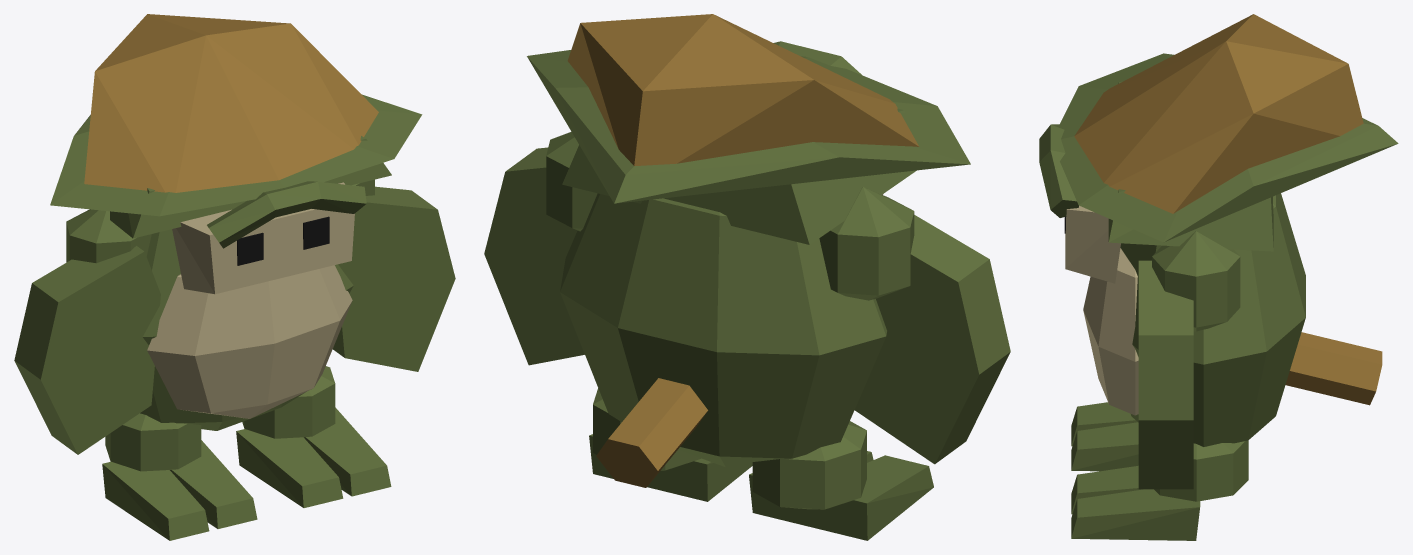
The model's file is veilbough.glb.
3 views of the same model, side by side, from view 1: azimuth 30°, elevation 25°; view 2: azimuth 150°, elevation 25°; view 3: azimuth 270°, elevation 25° (orthographic). The views are drawn at different scales.
Visible parts, largest first — view 1: Veilbough; view 2: Veilbough; view 3: Veilbough.
Boxes of the visible parts, bbox=[...] form: Veilbough: bbox=[14, 14, 455, 540]; Veilbough: bbox=[484, 14, 1010, 540]; Veilbough: bbox=[1039, 14, 1398, 540].
Size of the model in its own units: 0.86 by 0.84 by 0.62.
